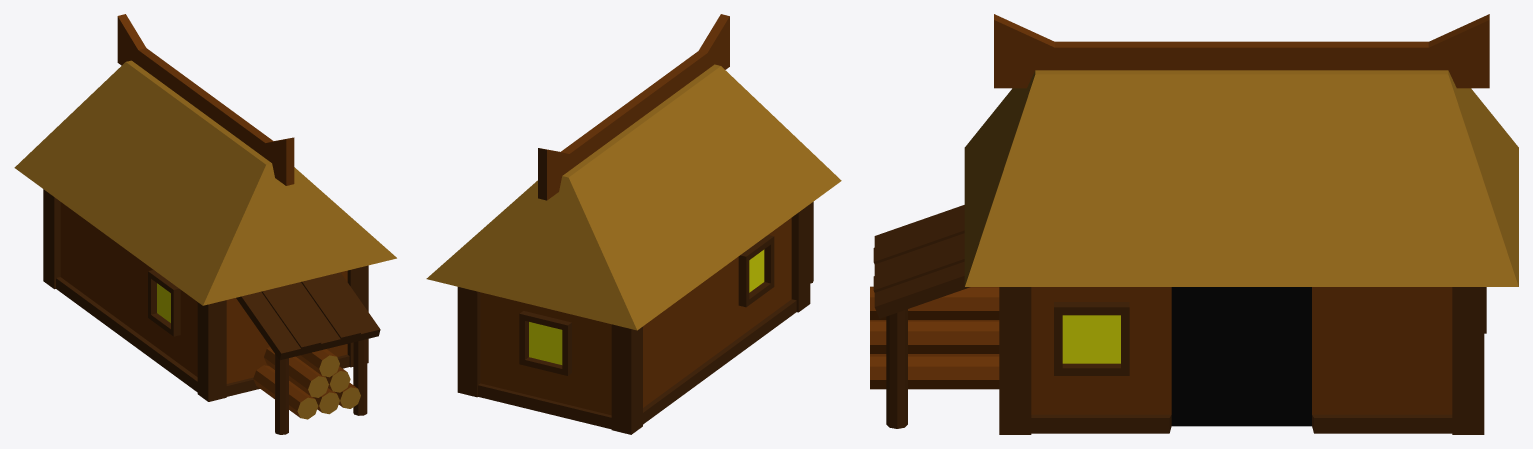
Rendered from house_1.obj.
3 views of the same model, side by side, from view 1: azimuth 30°, elevation 25°; view 2: azimuth 150°, elevation 25°; view 3: azimuth 270°, elevation 25° (orthographic). The views are drawn at different scales.
Visible parts, largest first — view 1: House_1_Cube.001; view 2: House_1_Cube.001; view 3: House_1_Cube.001.
Part boxes in pixels (bbox=[...]): House_1_Cube.001: bbox=[14, 14, 396, 434]; House_1_Cube.001: bbox=[426, 14, 841, 434]; House_1_Cube.001: bbox=[870, 14, 1518, 434].
Bounding box in the file's own units: 8.73 × 11.11 × 17.15.
Materials: 1 (1 with a texture image).
